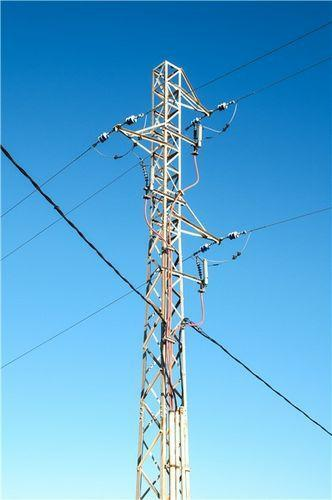power_tower: (107, 53, 205, 500)
